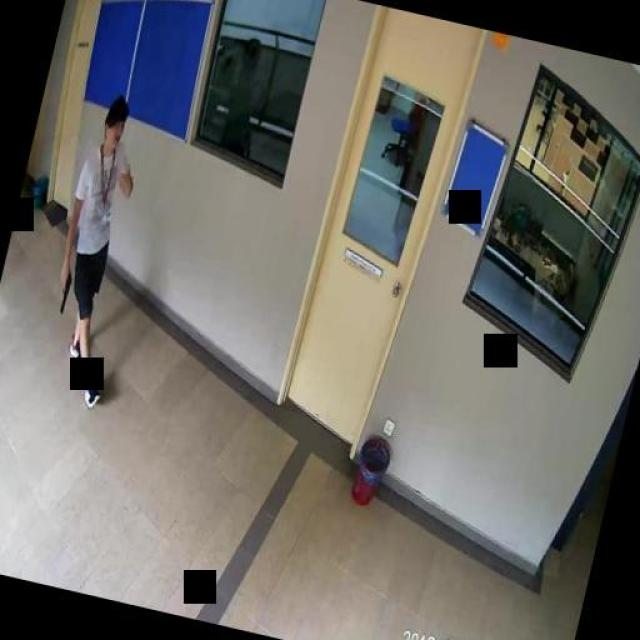gun: (50, 264, 74, 314)
